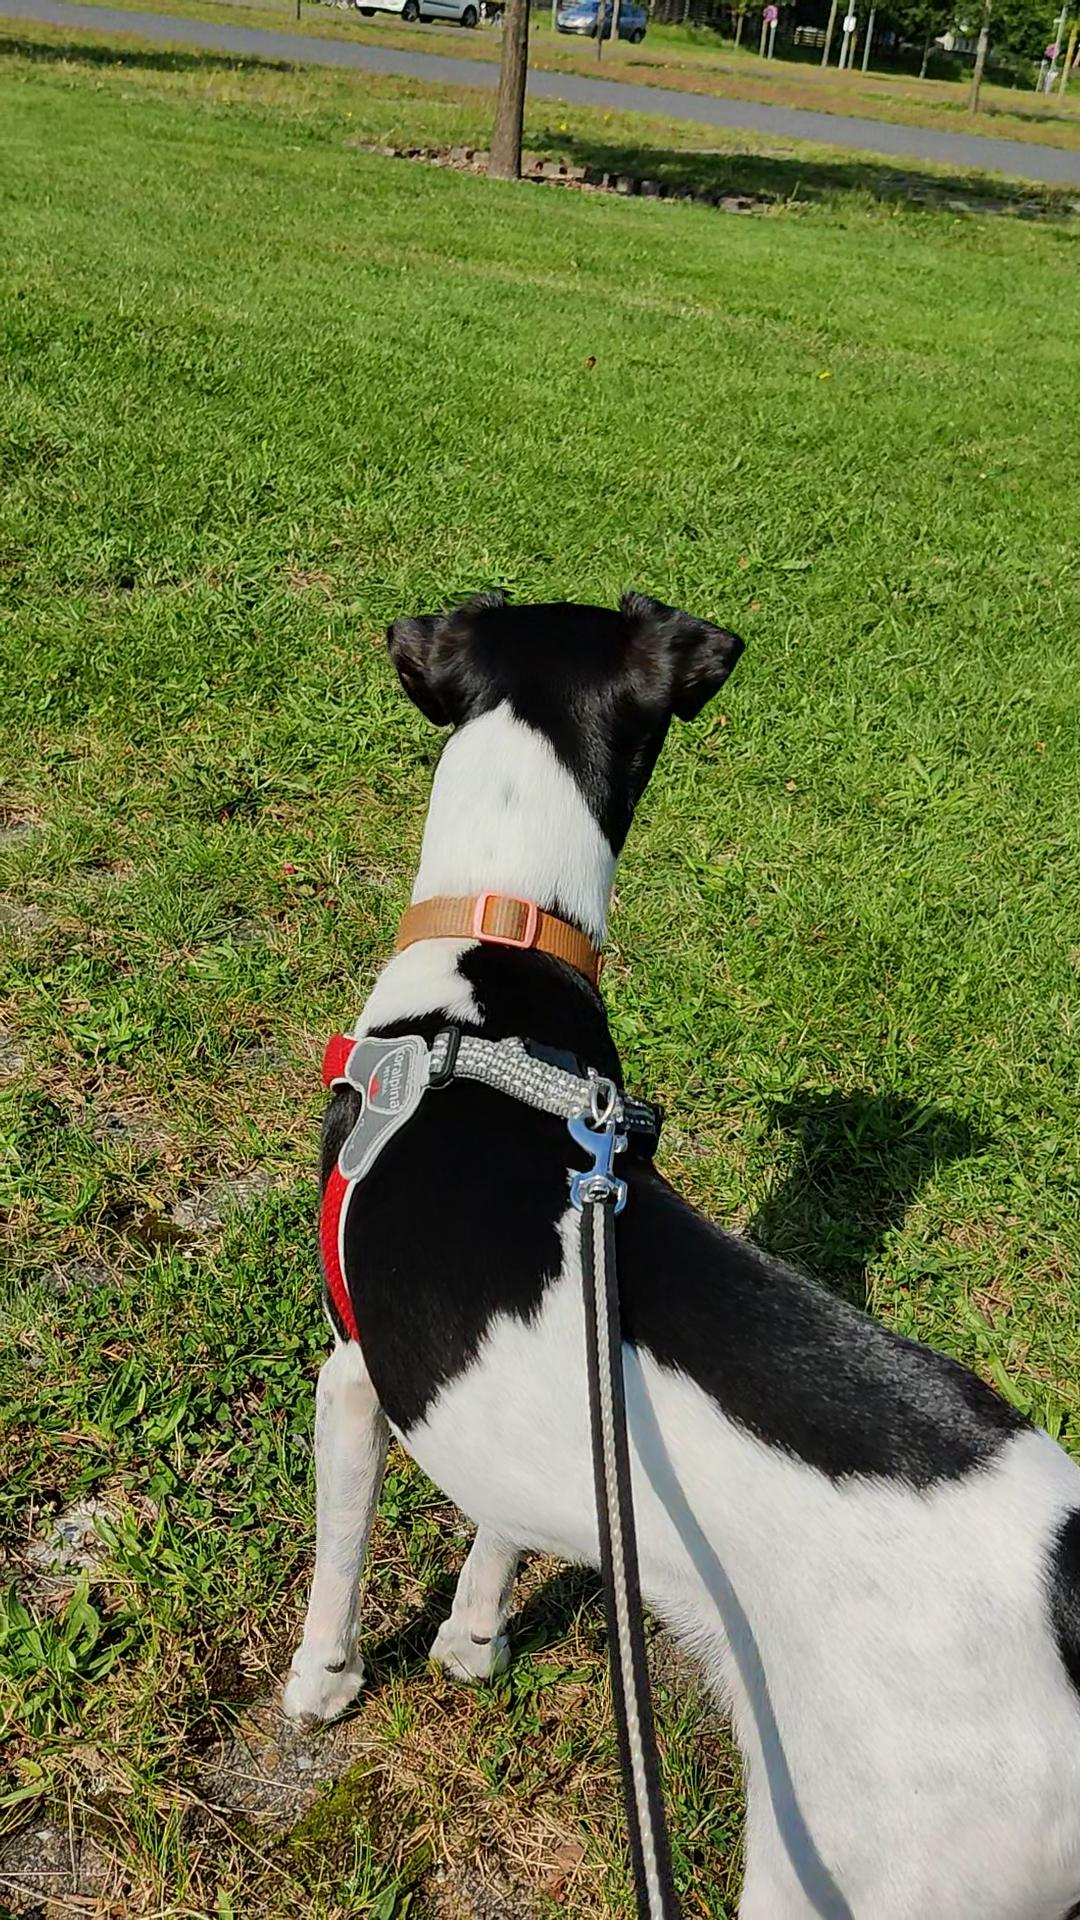Dog: (266, 585, 1079, 1919)
